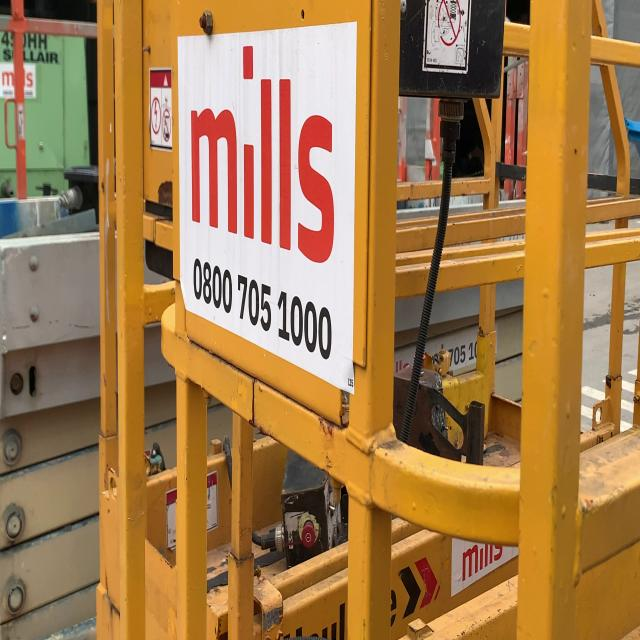Adesivos: (173, 21, 359, 401)
